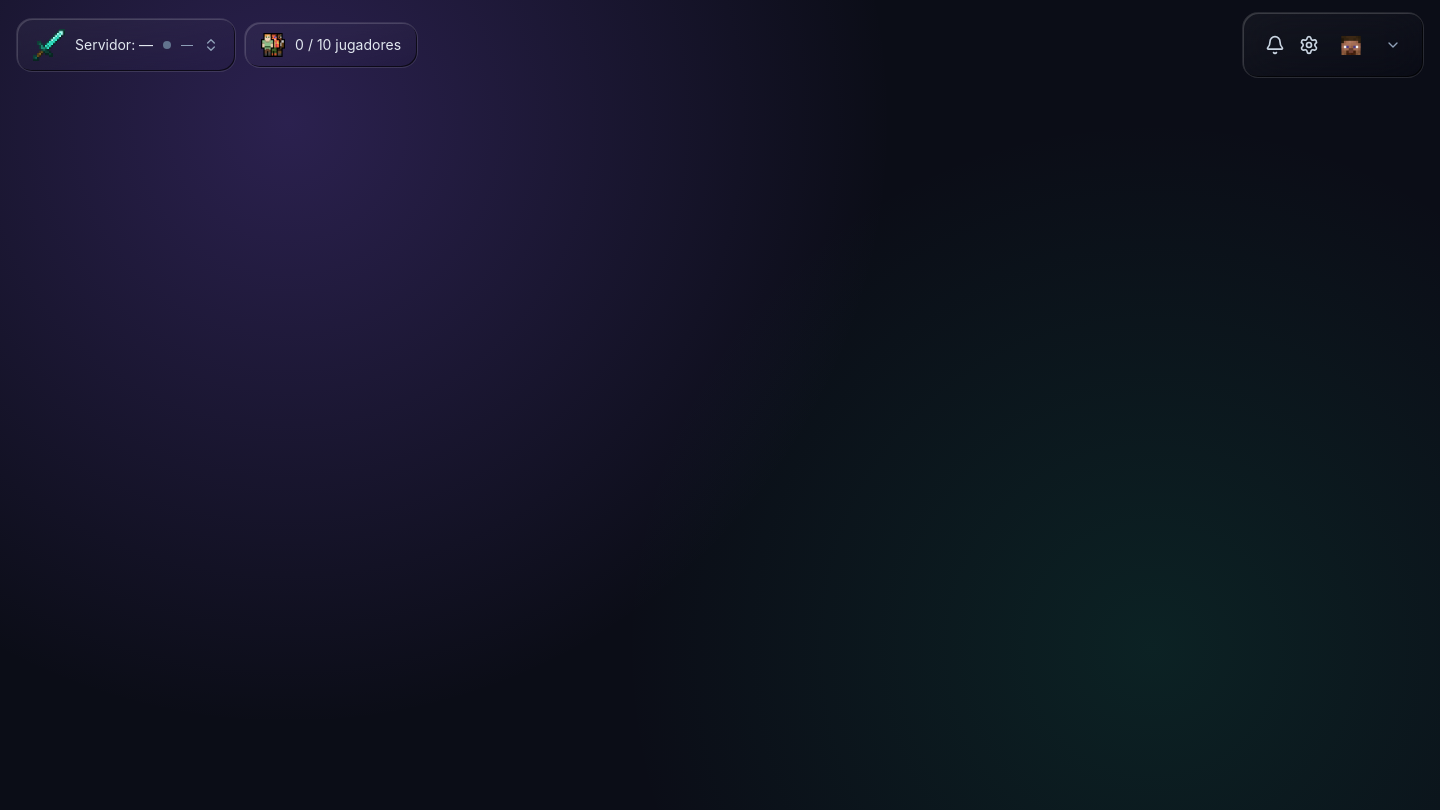
Test: Header — selector de servidor › muestra el estado de cada servidor en el dropdown
Click the button with test id "server-selector" at point(126, 45), box [16, 18, 236, 72]
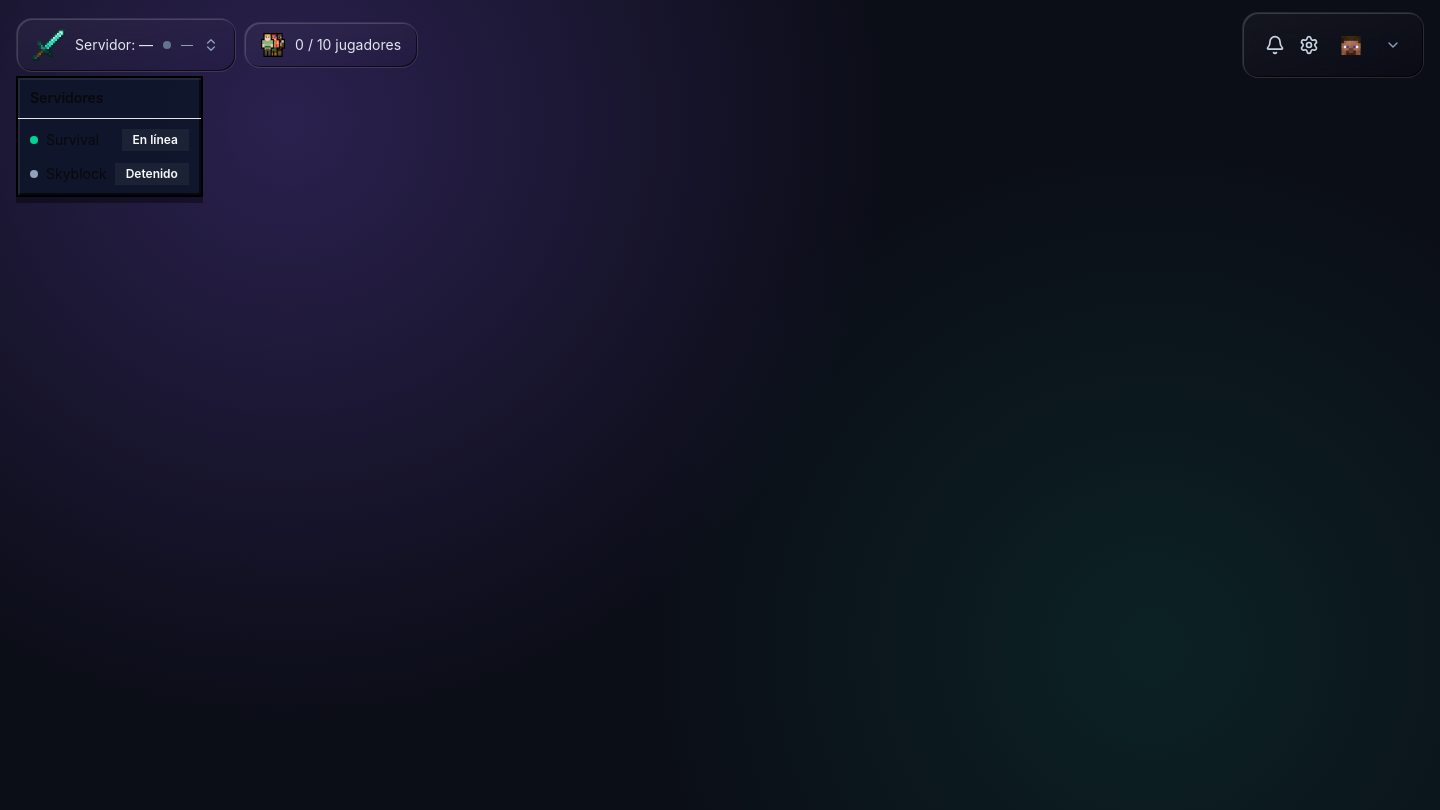
Check: the text "En línea" is shown, box [122, 129, 189, 151]
Check: the text "Detenido" is shown, box [115, 163, 189, 185]
